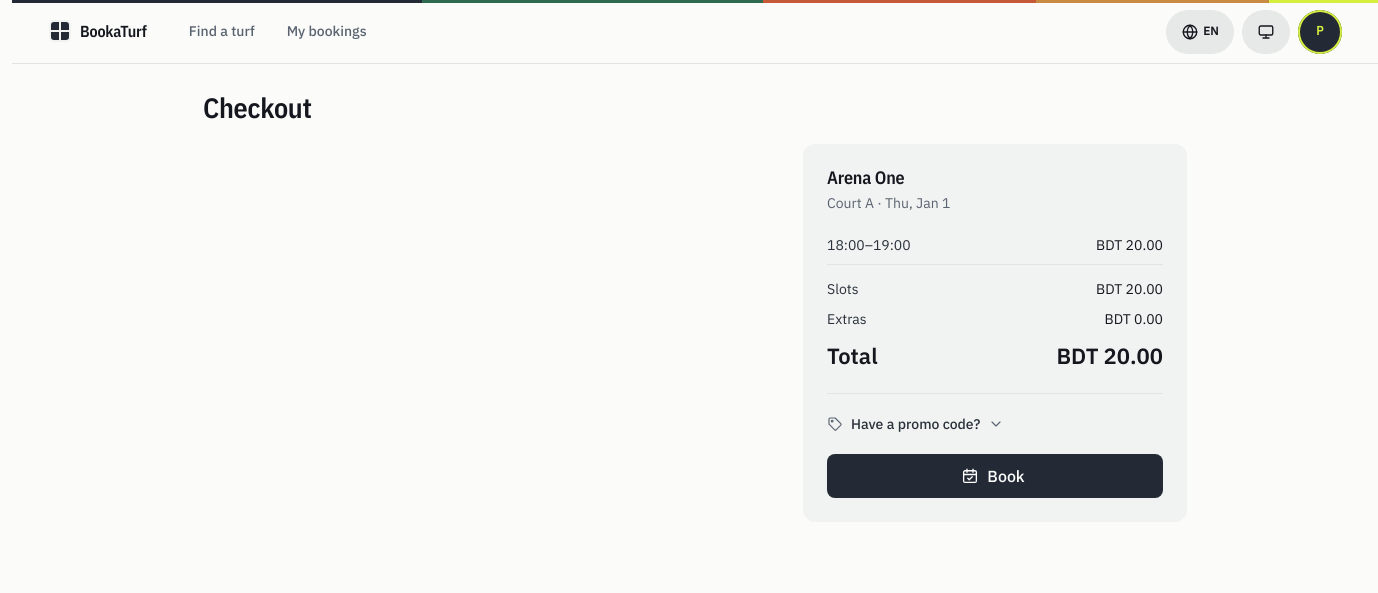
Test: placing a booking › slot_taken returns to a refreshed grid
Click the button "Book" at {"x": 995, "y": 476}, box x1=827 y1=454 x2=1163 y2=498
(page scrolled)
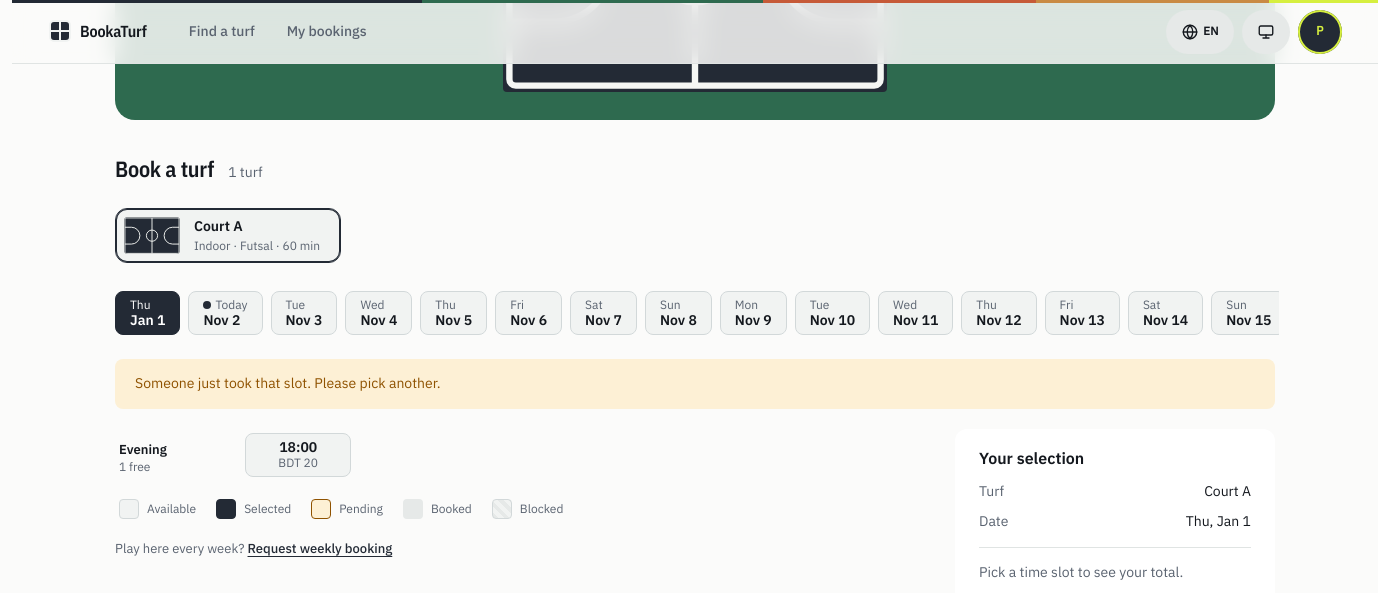
Check: the text "Someone just took that slot. Please pick another." is shown, box x1=115 y1=359 x2=1275 y2=409
